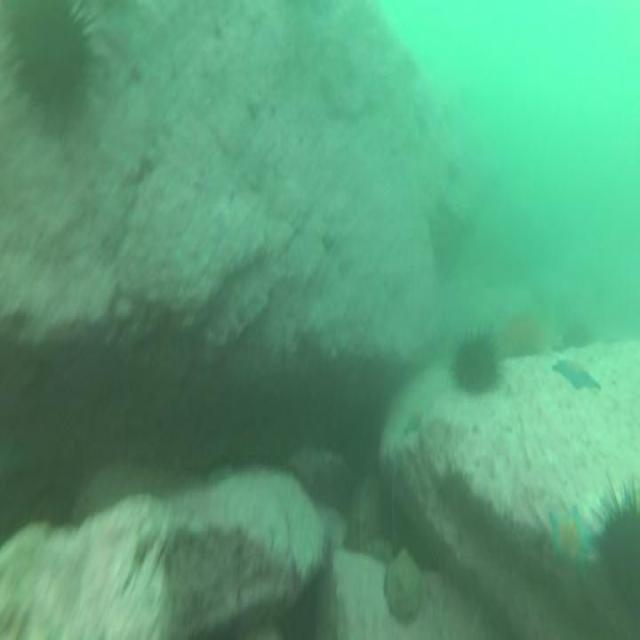echinus: (0, 0, 99, 134), (590, 472, 640, 640), (450, 319, 506, 397)
starfish: (546, 501, 594, 589), (550, 352, 602, 400)
